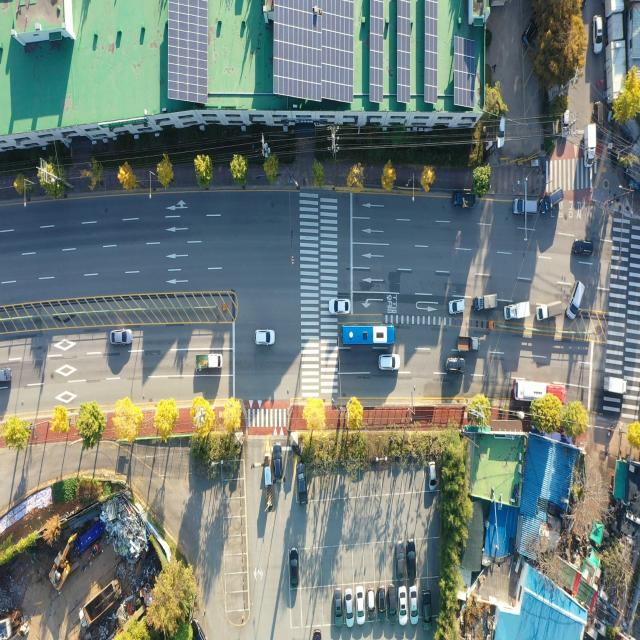car: (539, 187, 564, 217), (568, 281, 585, 323), (522, 17, 540, 51), (512, 197, 539, 216), (395, 540, 406, 581), (296, 463, 307, 503), (387, 585, 398, 622), (406, 539, 416, 579), (594, 15, 603, 57), (329, 300, 352, 316), (257, 330, 277, 348), (272, 442, 282, 478), (571, 240, 593, 256), (560, 110, 571, 142), (290, 550, 299, 589), (422, 590, 431, 629), (380, 354, 400, 371), (496, 114, 506, 148), (111, 331, 132, 347), (334, 587, 343, 624), (377, 587, 386, 623), (595, 102, 604, 138), (346, 588, 354, 626), (398, 587, 406, 624), (356, 587, 364, 624), (0, 364, 12, 388), (366, 589, 375, 620), (428, 462, 437, 491), (411, 588, 418, 624), (448, 358, 465, 372), (449, 301, 465, 315)
large_bus: (513, 378, 567, 405), (338, 326, 396, 348)
small_truck: (195, 351, 222, 376), (536, 300, 562, 324), (504, 299, 531, 322), (584, 122, 596, 169), (474, 291, 498, 313), (604, 376, 629, 396), (457, 333, 480, 351), (454, 194, 478, 211)
